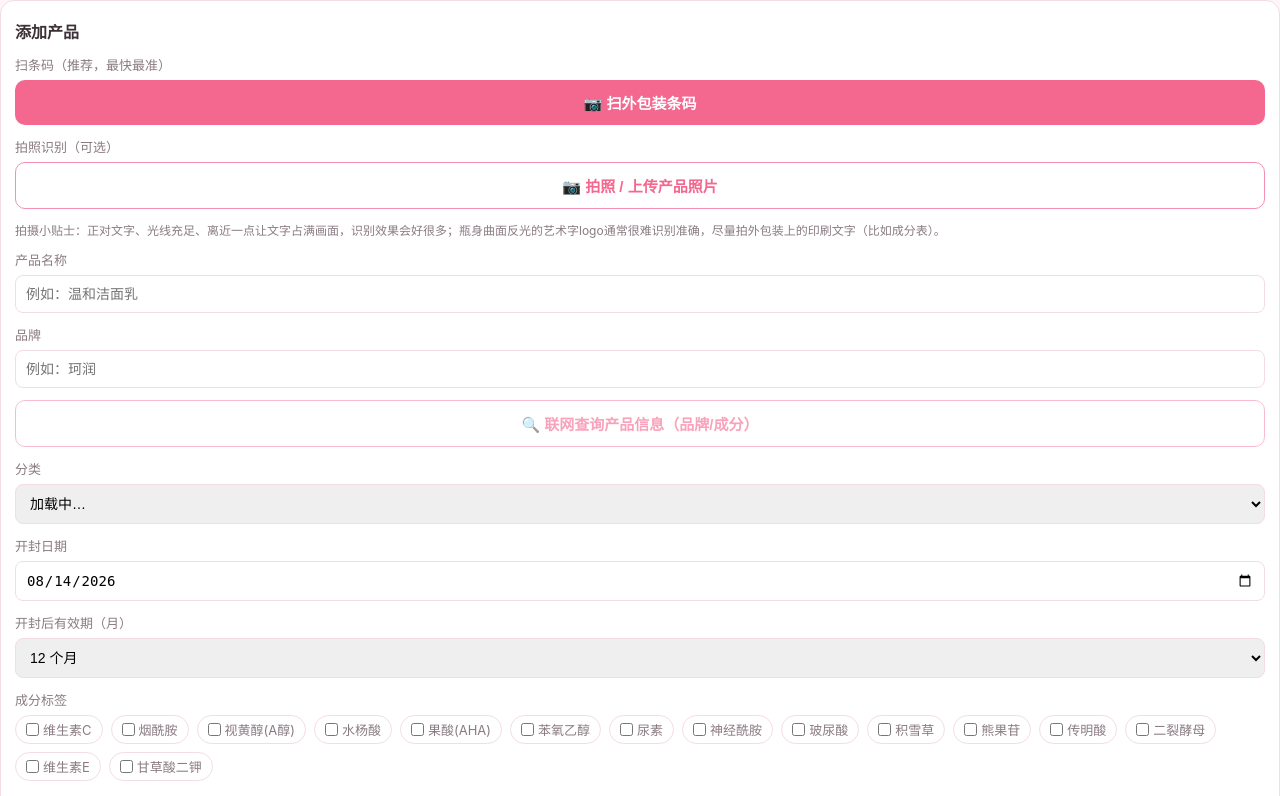
Test: AddProduct — barcode scan › doesn't overwrite a name the user already typed
In the field labelled "产品名称": (640, 294) 15,275 -> 1265,313, type "我自己填的名字"
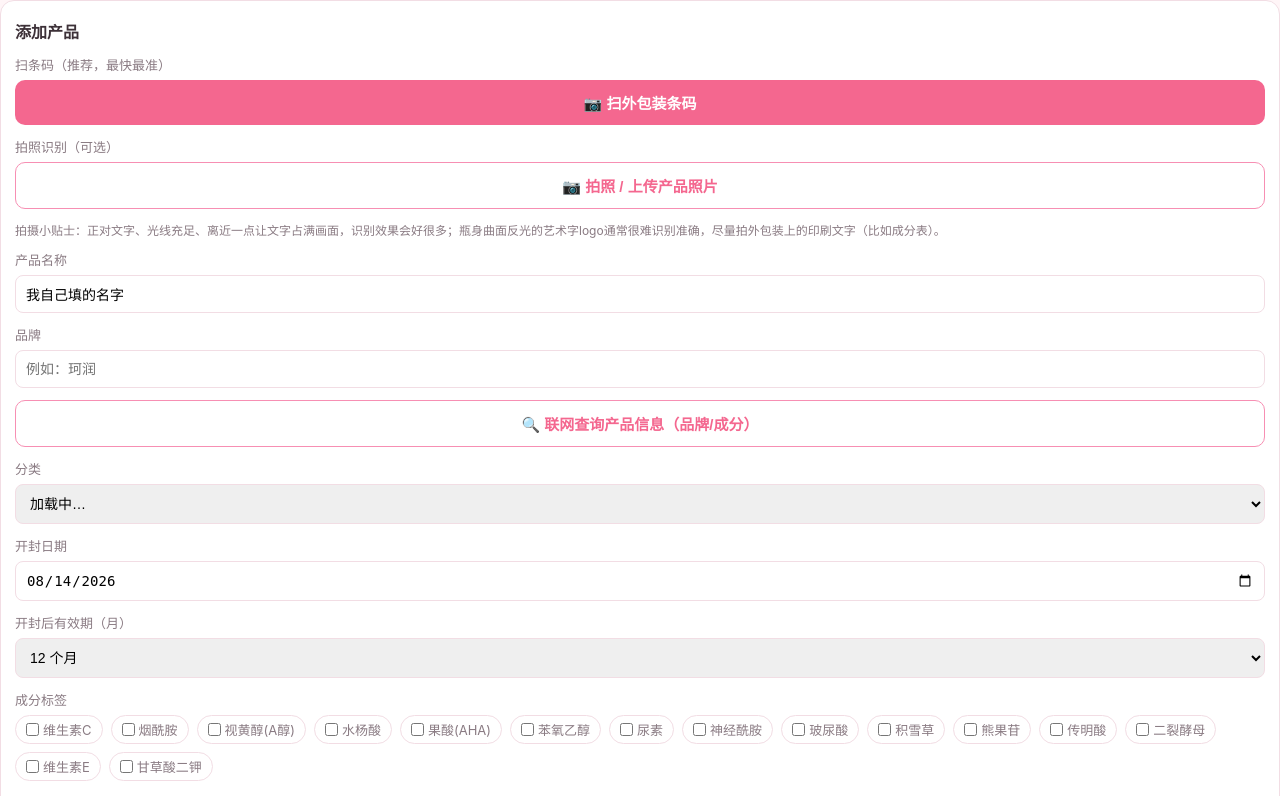
Click the button "📷 扫外包装条码": (640, 102) 15,80 -> 1265,125
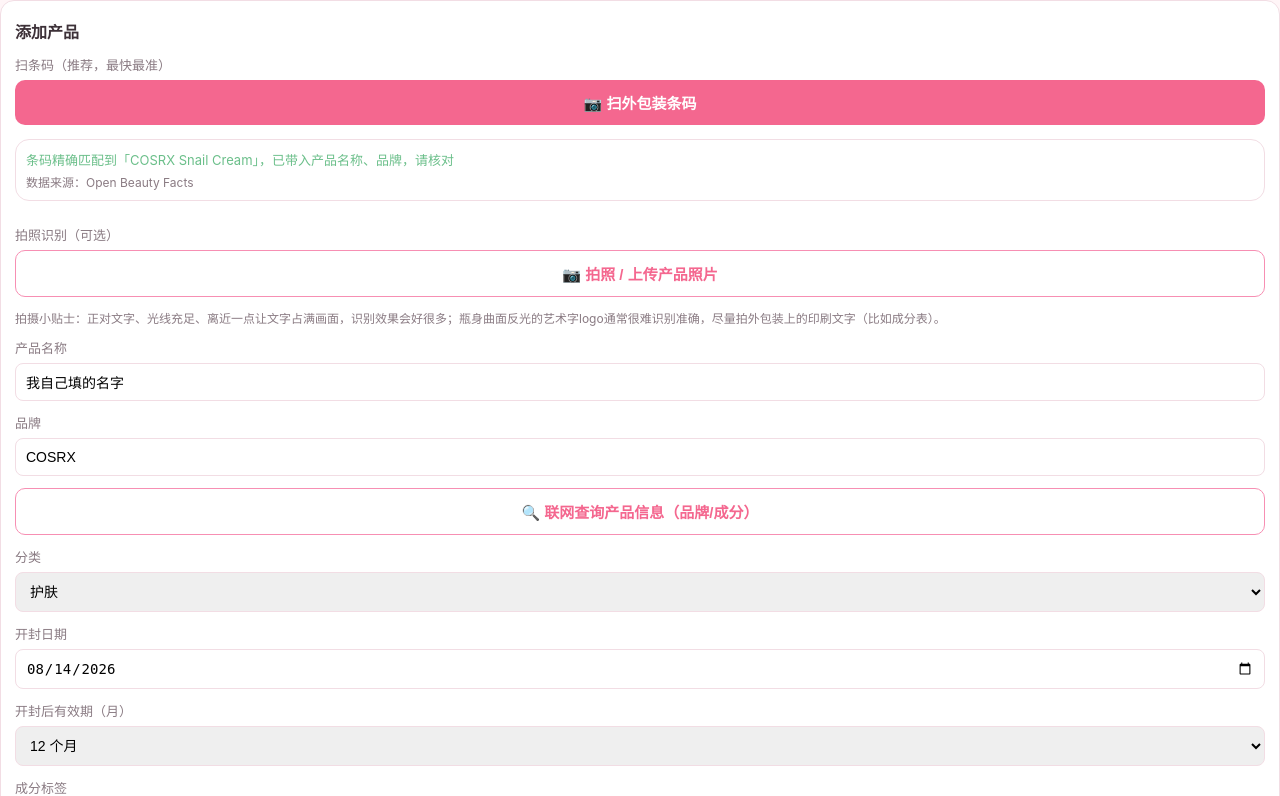
Expected: the text "条码精确匹配到「COSRX Snail Cream」，已带入产品名称、品牌，请核对" is shown, 26,152 -> 454,168
